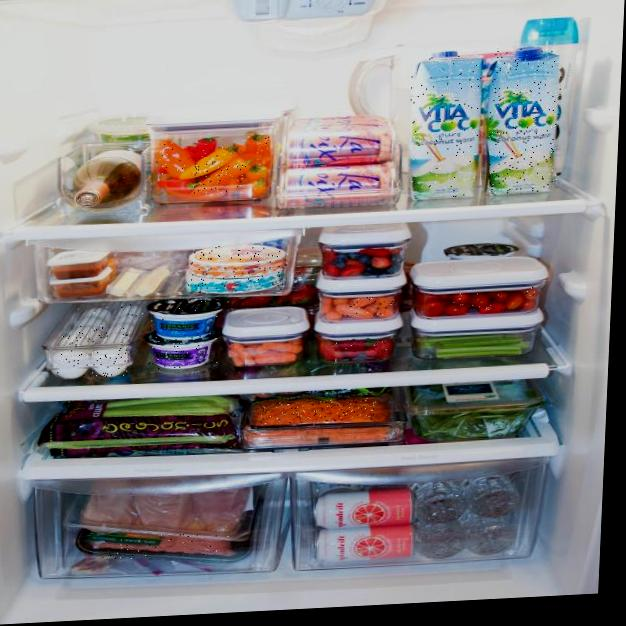carrots: (261, 397, 377, 425)
cheese: (189, 243, 289, 277), (185, 271, 287, 295)
eggs: (90, 347, 130, 378), (52, 349, 89, 378), (59, 333, 96, 348), (69, 325, 104, 340), (85, 308, 112, 321), (103, 331, 130, 344), (121, 304, 144, 317), (111, 323, 134, 332)
ground_beef: (98, 531, 231, 561)
milk: (486, 45, 562, 194), (406, 52, 483, 199)
sausage: (333, 305, 371, 321), (349, 296, 374, 308), (374, 297, 395, 309), (375, 309, 392, 317)
strawberries: (365, 338, 391, 359), (339, 339, 364, 357), (320, 341, 341, 361)
tomato: (421, 300, 444, 315), (502, 296, 525, 309), (478, 303, 503, 313), (472, 293, 488, 308), (445, 304, 466, 315), (524, 286, 538, 300), (493, 292, 510, 302), (454, 294, 468, 304)
yellow bell pepper: (192, 160, 246, 198), (181, 147, 234, 178), (156, 137, 193, 176), (190, 138, 217, 158), (247, 135, 272, 156)
yoghurt: (145, 299, 224, 341), (148, 332, 220, 370)
